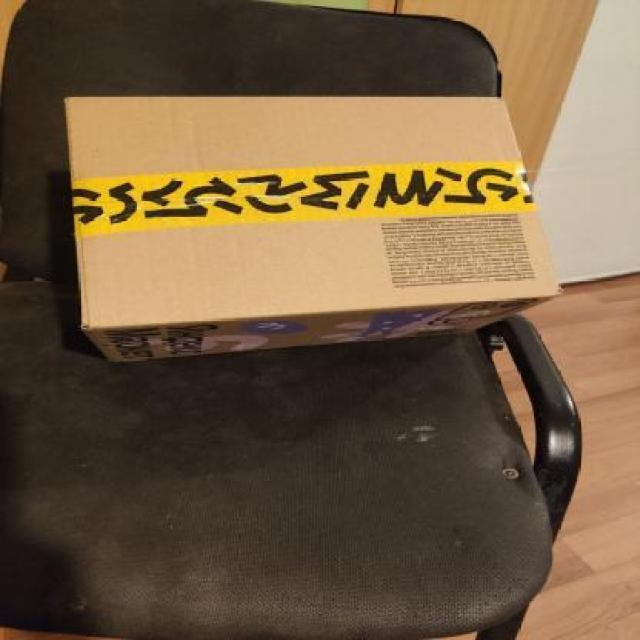box: (53, 67, 553, 360)
